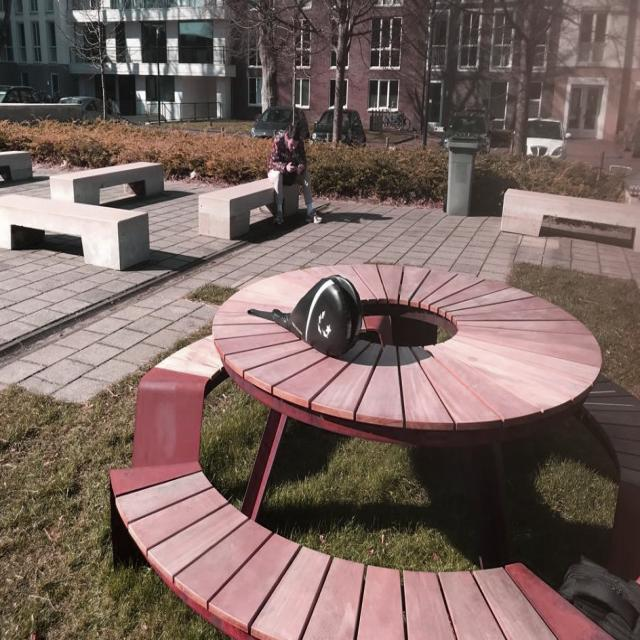paddle: (273, 273, 364, 358)
